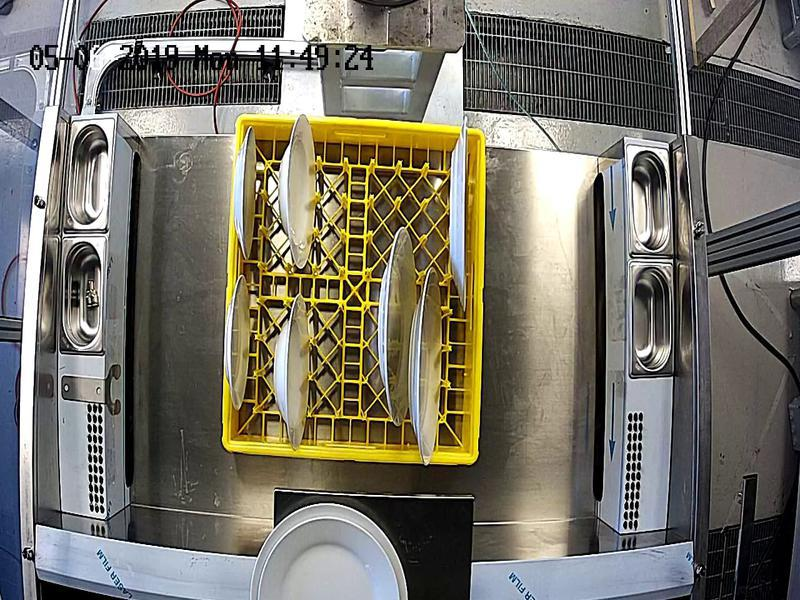Dish: (378, 226, 413, 425), (408, 267, 440, 463), (278, 115, 315, 270), (273, 295, 308, 451), (223, 271, 251, 409), (449, 117, 468, 310), (231, 126, 254, 261)
